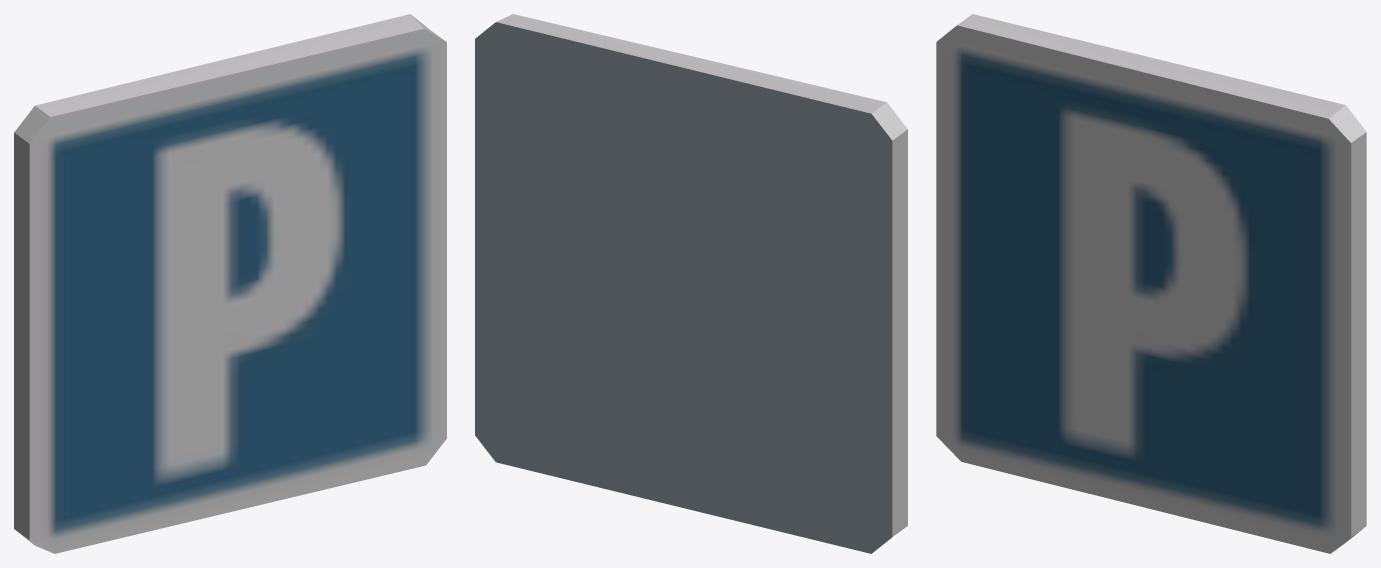
File: SM_Sign_Board_09.obj
3 renders of one model, left to right at view 1: azimuth 30°, elevation 25°; view 2: azimuth 150°, elevation 25°; view 3: azimuth 330°, elevation 25°, orthographic.
Visible parts, largest first — view 1: SM_Sign_Board_09_0; view 2: SM_Sign_Board_09_0; view 3: SM_Sign_Board_09_0.
Boxes of the visible parts, box(x1,y1,x2,y2) form: SM_Sign_Board_09_0: box(14, 14, 446, 553); SM_Sign_Board_09_0: box(475, 14, 907, 553); SM_Sign_Board_09_0: box(936, 14, 1366, 553).
Bounding box in the file's own units: 0.3669 × 0.3698 × 0.0237.
1 material, 1 textured.
